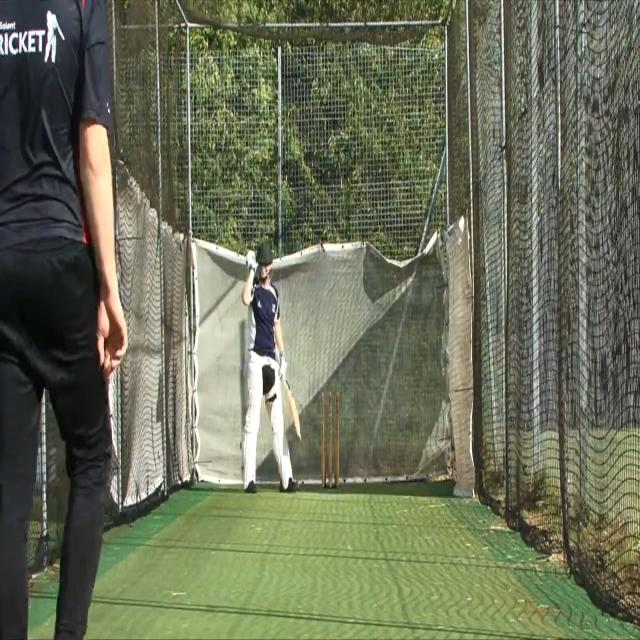batsman: (240, 239, 304, 495)
